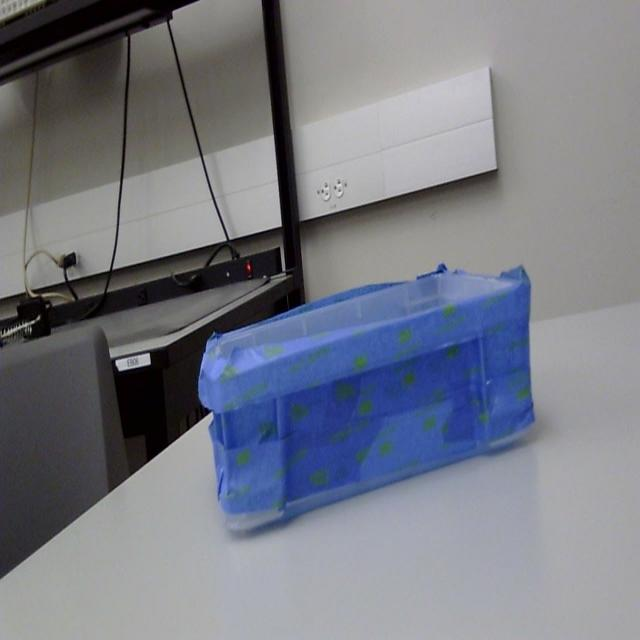bucket: (196, 266, 537, 539)
